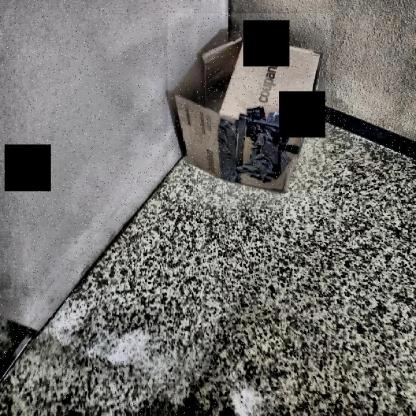box: (167, 13, 330, 208)
